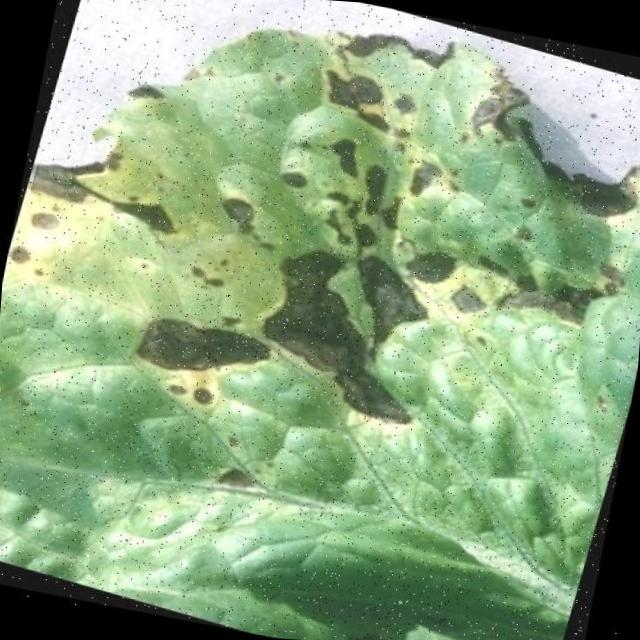Healthy: (83, 133, 640, 519)
